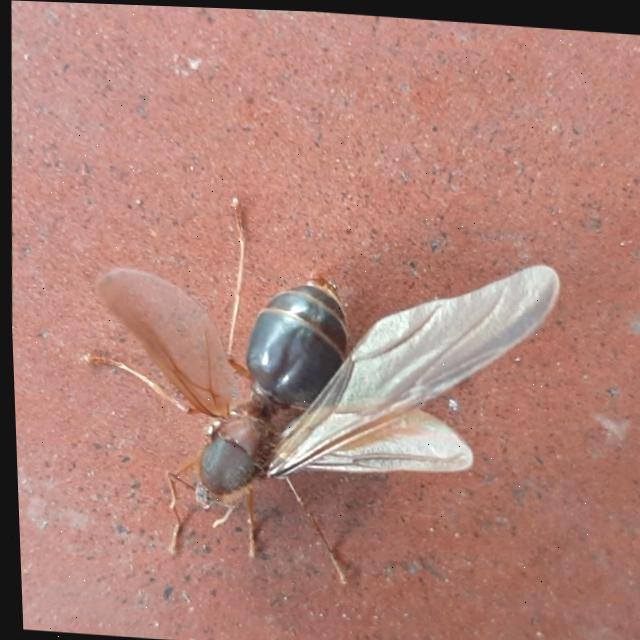Alive-Male-Alate: (66, 184, 568, 596)
